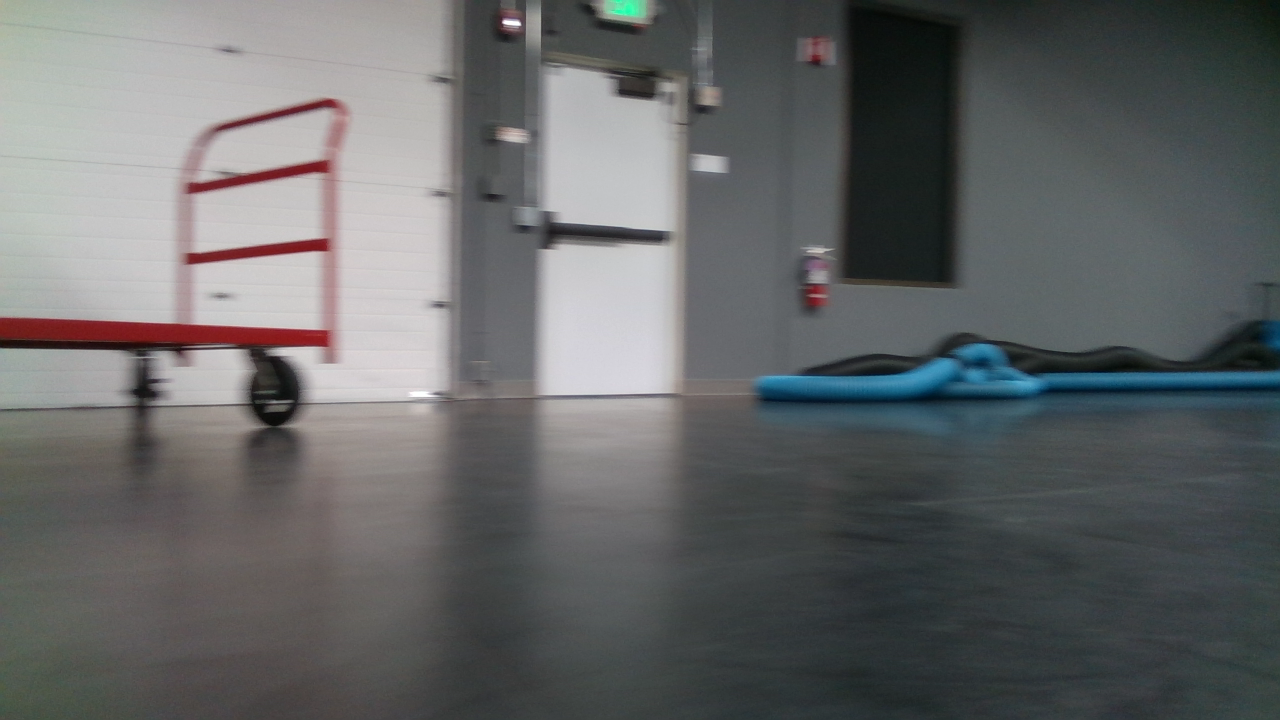Dolly: (0, 94, 359, 430)
Wheel: (249, 355, 301, 426)
